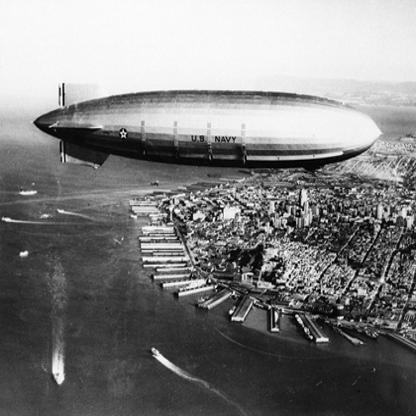Airship: (35, 77, 384, 179)
